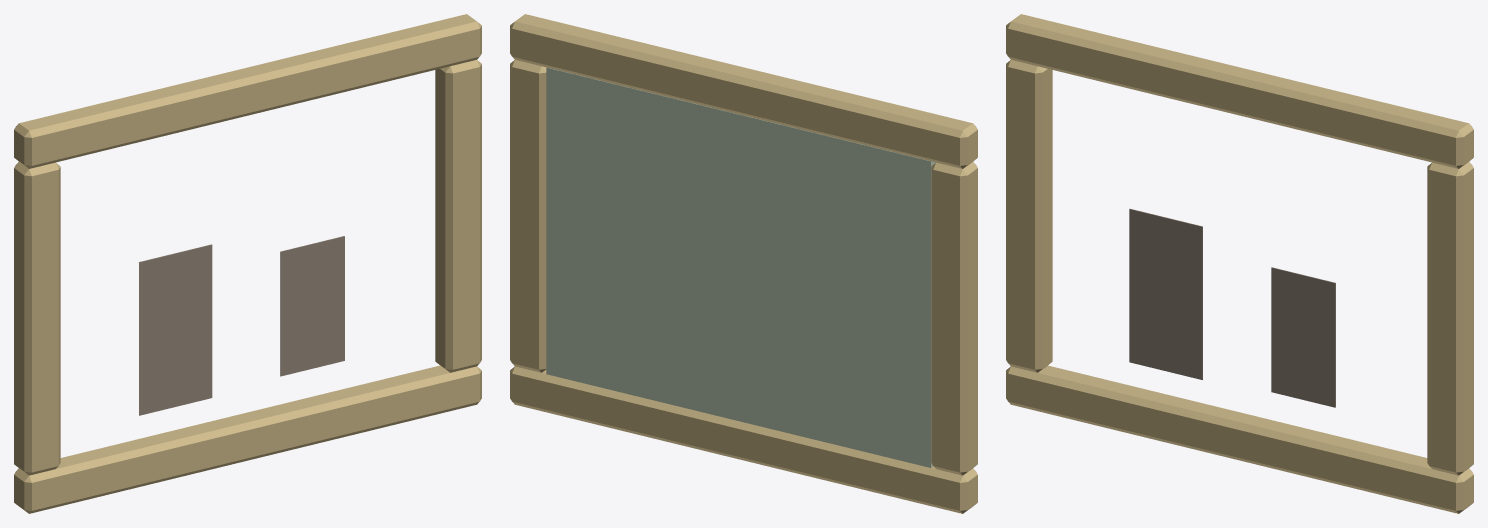
The model's file is picture_frame.glb.
3 renders of one model, left to right at view 1: azimuth 30°, elevation 25°; view 2: azimuth 150°, elevation 25°; view 3: azimuth 330°, elevation 25°, orthographic.
Parts seen in each view (by area): view 1: picture_frame; view 2: picture_frame; view 3: picture_frame.
Boxes of the visible parts, x1,y1,x2,y2 form: picture_frame: (14, 14, 481, 513); picture_frame: (510, 14, 977, 513); picture_frame: (1006, 14, 1473, 513).
Size of the model in its own units: 0.5 by 0.4 by 0.03.
